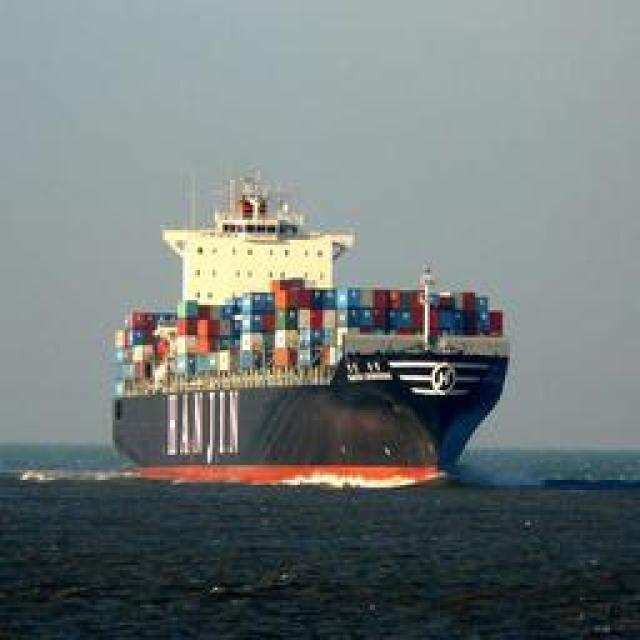ship2: (111, 171, 509, 492)
